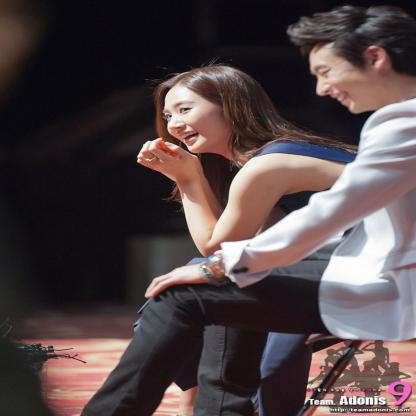face: (164, 86, 232, 154), (312, 45, 377, 115)
